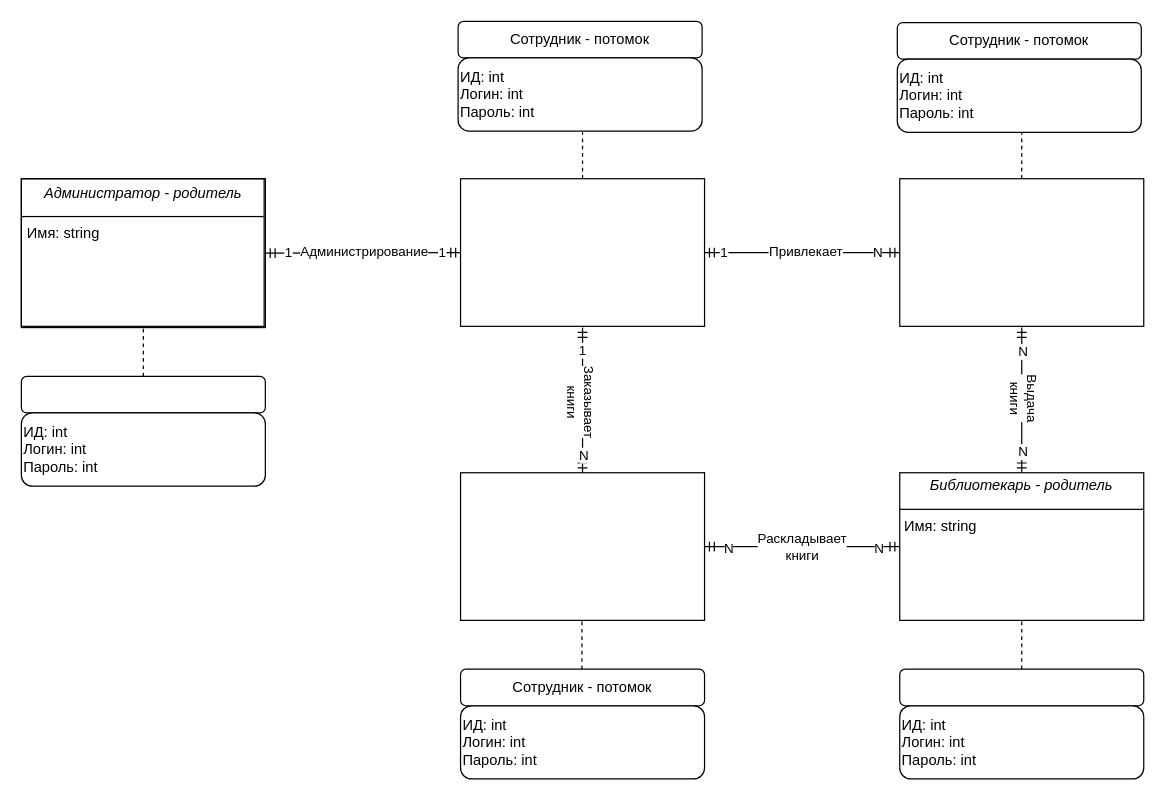
This 1165x800 diagram has some shape labels left out. Each missing label, with the centre of its shape:
Администратор - потомок: point (142, 394)
Библиотекарь - потомок: point (1021, 687)
Рекламодатель - родитель Имя: string: point (582, 252)
Сотрудник - родитель Имя: string: point (582, 546)
Читатель - родитель Имя: string: point (1021, 252)
